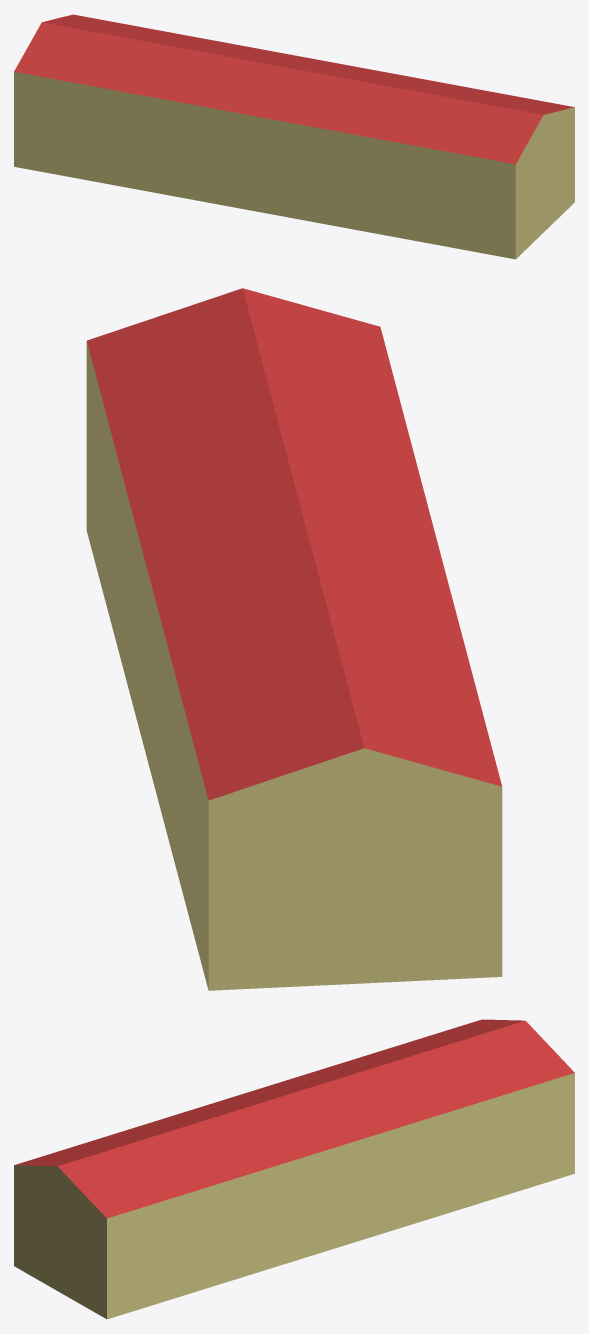
The picture shows the model from 3 angles, top to bottom: view 1: azimuth 30°, elevation 25°; view 2: azimuth 150°, elevation 25°; view 3: azimuth 270°, elevation 25°; orthographic projection. The views are drawn at different scales.
Size of the model in its own units: 21.04 by 25.05 by 6.15.
